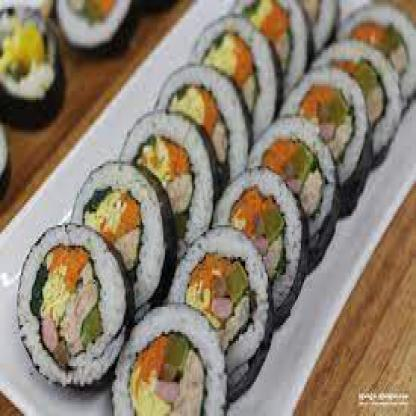rice: (47, 25, 393, 380)
